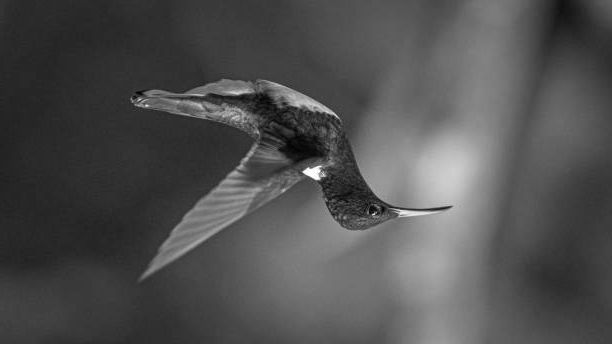Bird: (120, 77, 453, 283)
